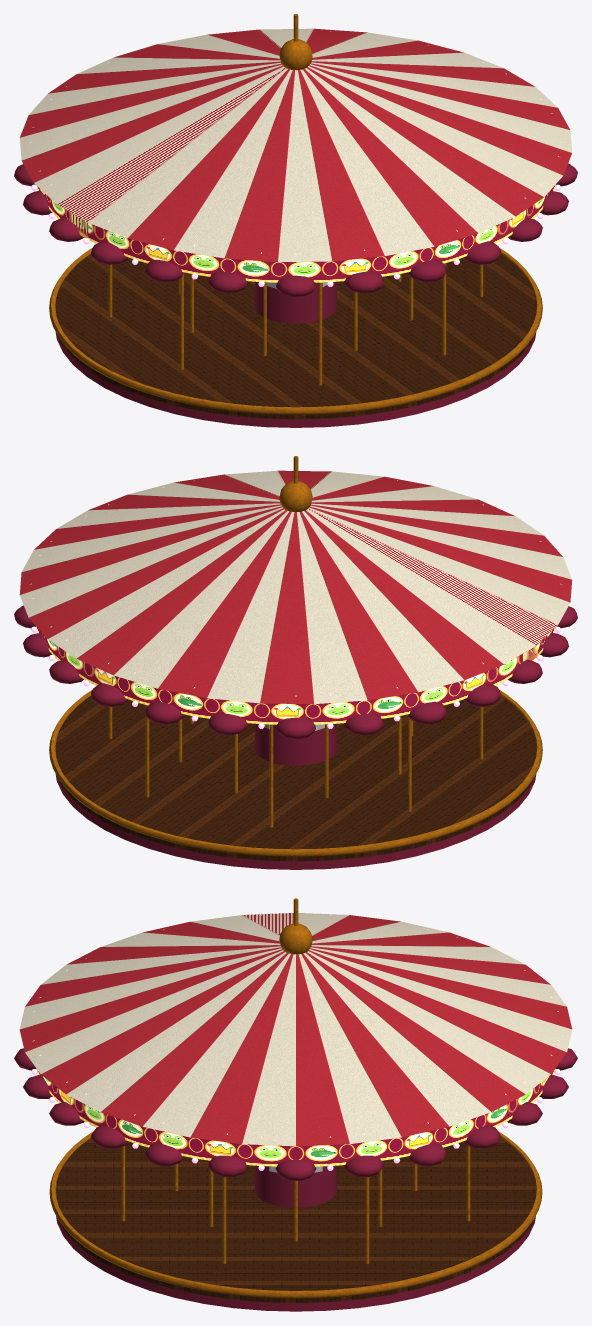
The model's file is carousel.glb.
3 views of the same model, one above another, from view 1: azimuth 30°, elevation 25°; view 2: azimuth 150°, elevation 25°; view 3: azimuth 270°, elevation 25° (orthographic).
Parts seen in each view (by area): view 1: carousel; view 2: carousel; view 3: carousel.
Boxes of the visible parts, x1,y1,x2,y2 form: carousel: (14, 14, 577, 427); carousel: (14, 456, 577, 869); carousel: (14, 898, 577, 1311).
Bounding box in the file's own units: 15.05 × 9.18 × 15.1.
Materials: 8 (4 with a texture image).
